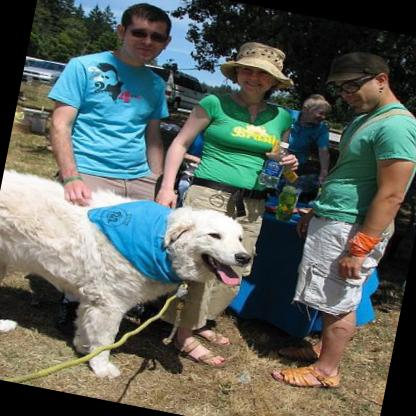kuvasz: (0, 166, 260, 415)
